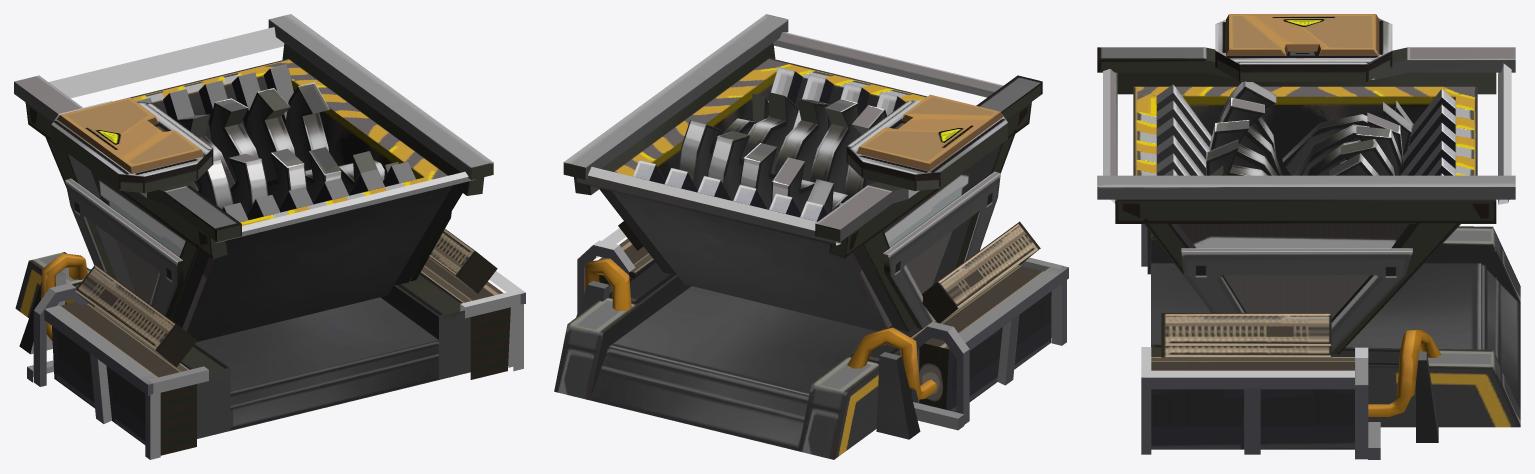
The model's file is trap_489_xbtrok.fbx.
The picture shows the model from 3 angles, left to right: view 1: azimuth 30°, elevation 25°; view 2: azimuth 150°, elevation 25°; view 3: azimuth 270°, elevation 25°; orthographic projection. The views are drawn at different scales.
Visible parts, largest first — view 1: trap_489_xbtrok; view 2: trap_489_xbtrok; view 3: trap_489_xbtrok.
Boxes of the visible parts, box(x1,y1,x2,y2) form: trap_489_xbtrok: box(14, 14, 525, 459); trap_489_xbtrok: box(554, 14, 1068, 459); trap_489_xbtrok: box(1097, 14, 1520, 459).
Bounding box in the file's own units: 1.25 × 0.7948 × 1.15.
Materials: 1 (1 with a texture image).
